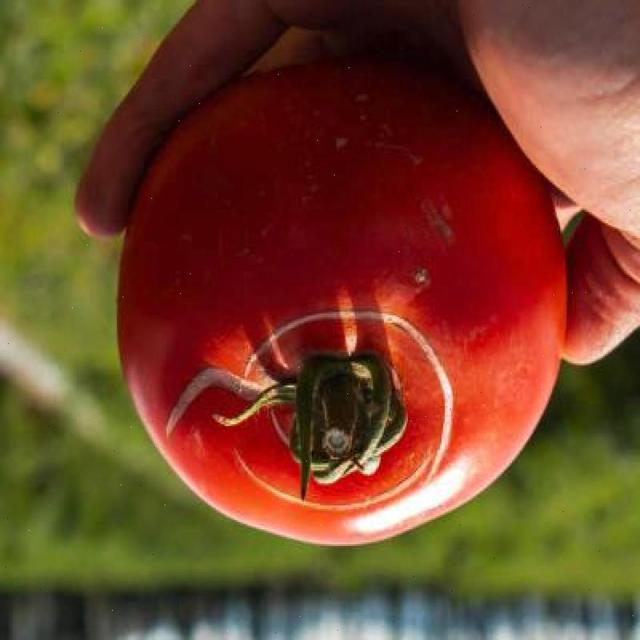Cracking Fruit: (106, 185, 303, 346)
